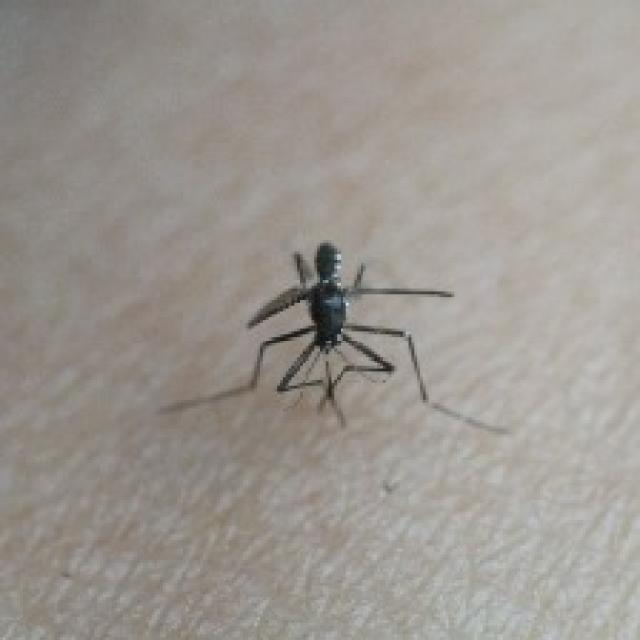aedes: (154, 237, 506, 434)
